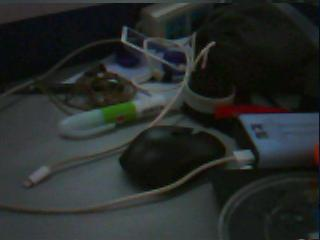oball: (315, 139, 320, 170)
